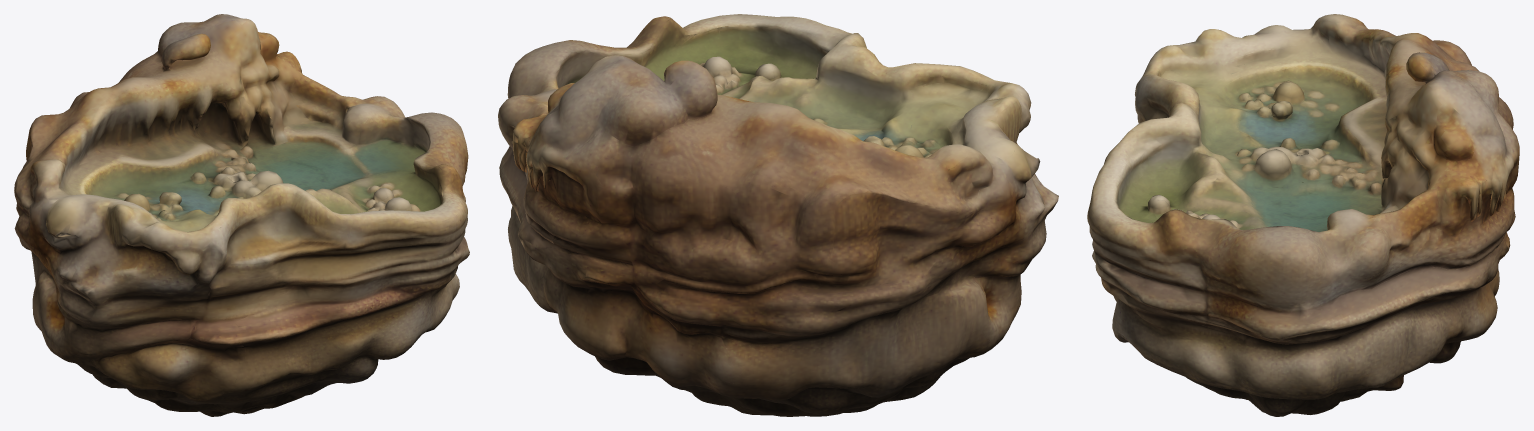
3 views of the same model, side by side, from view 1: azimuth 30°, elevation 25°; view 2: azimuth 150°, elevation 25°; view 3: azimuth 270°, elevation 25° (orthographic). The views are drawn at different scales.
Parts seen in each view (by area): view 1: world; view 2: world; view 3: world.
Boxes of the visible parts, <box> form: world: <box>14,14,469,416</box>; world: <box>498,14,1058,416</box>; world: <box>1087,14,1519,416</box>.
Bounding box in the file's own units: 0.55 × 0.4054 × 0.458.
1 material, 1 textured.
